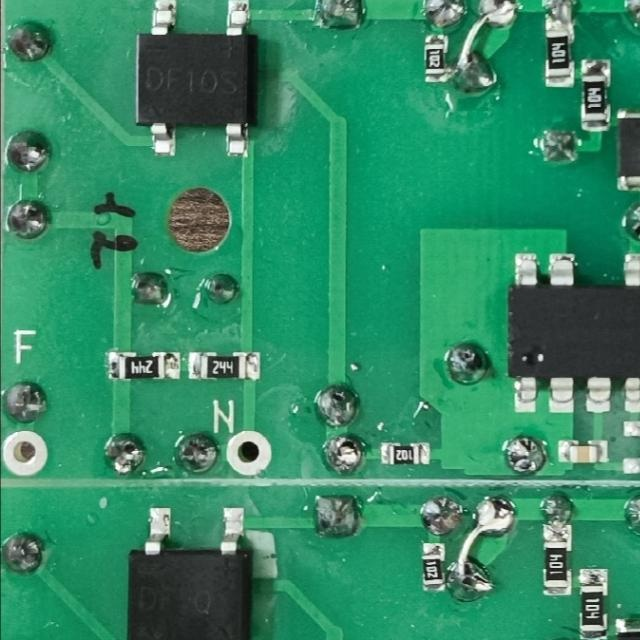chip-capacitor: (555, 438, 609, 463)
chip-resistor: (105, 348, 182, 382), (186, 349, 263, 382), (576, 565, 609, 640), (540, 522, 572, 598), (578, 58, 610, 133), (544, 20, 575, 88), (377, 438, 431, 466), (418, 539, 446, 592), (422, 33, 450, 84)
diode: (613, 106, 640, 192)
ic: (506, 251, 640, 415), (131, 0, 254, 159), (122, 502, 253, 640)
